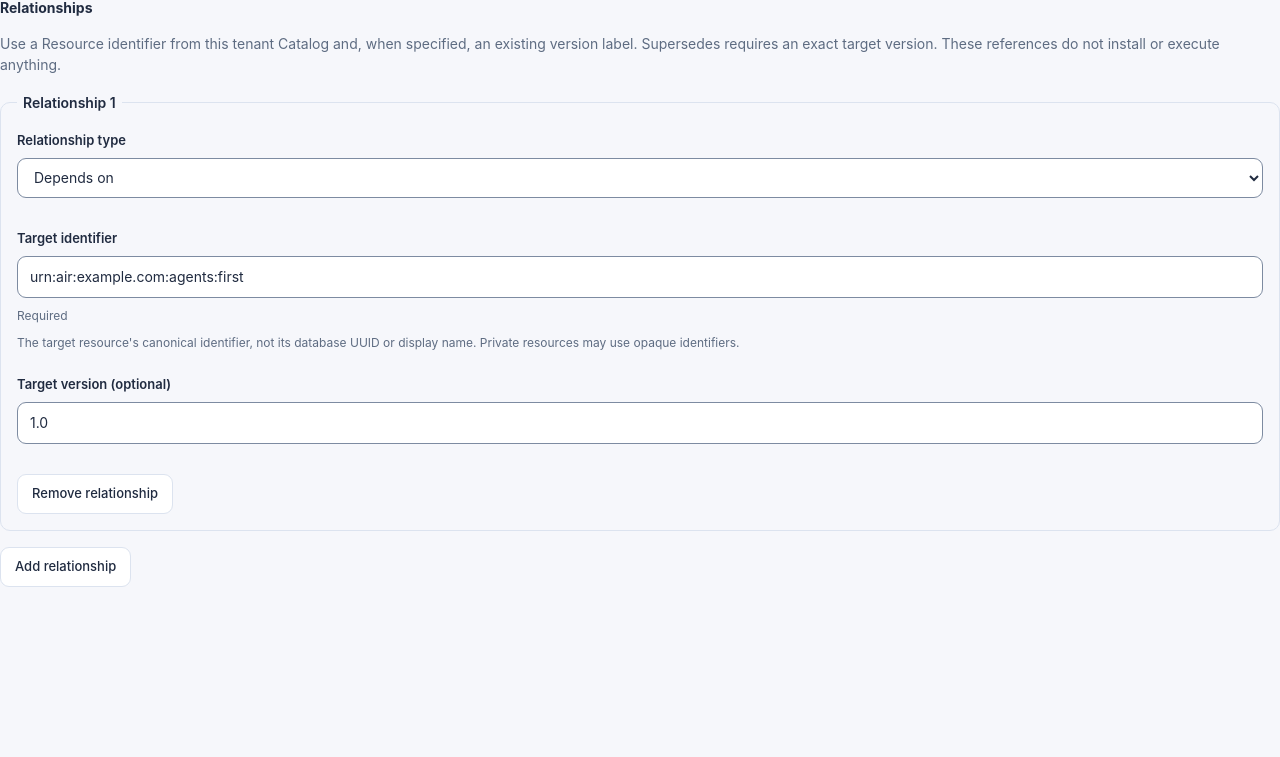
Scenario: edits only the selected row and preserves the other row when types and versions change
The width and height of the screenshot is (1280, 757).
Click the button "Add relationship" at (66, 567), box top-left (0, 547), bottom-right (131, 587)
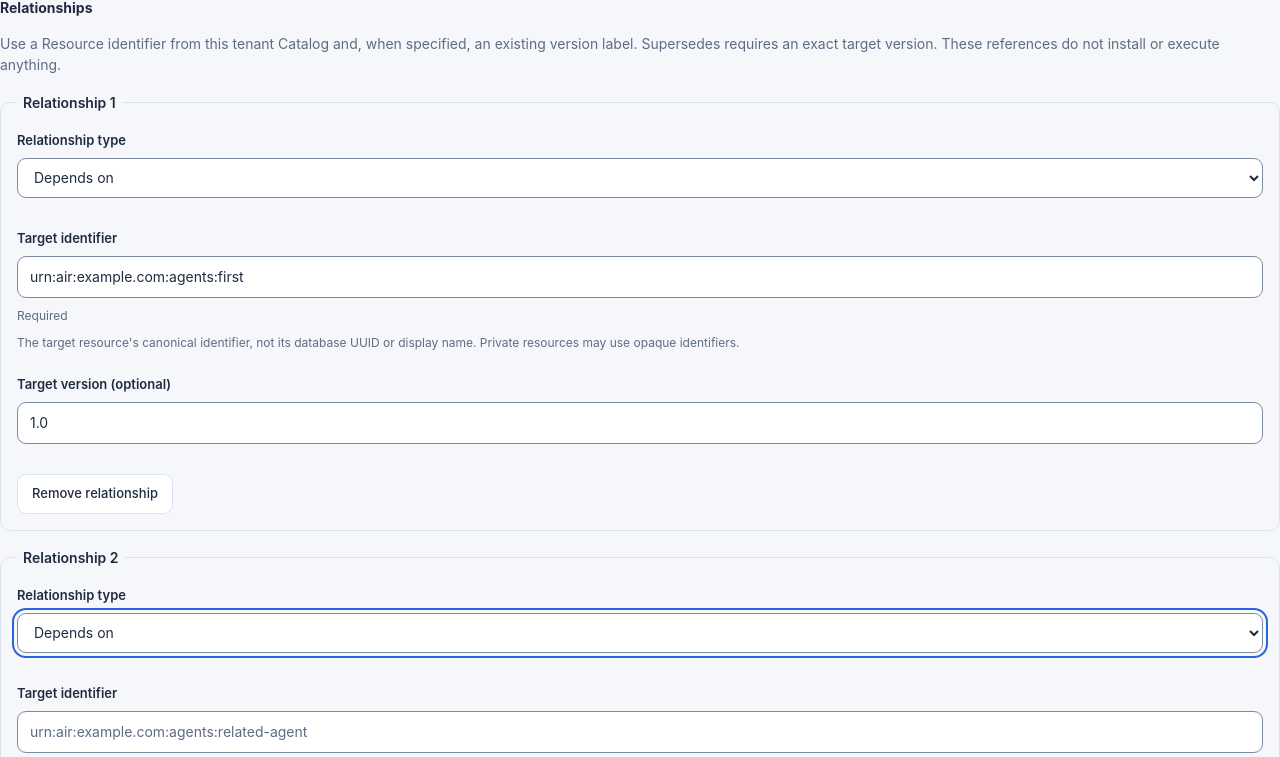
Select "Supersedes" in the 2nd dropdown labelled "Relationship type" at (640, 633), box top-left (17, 613), bottom-right (1263, 653)
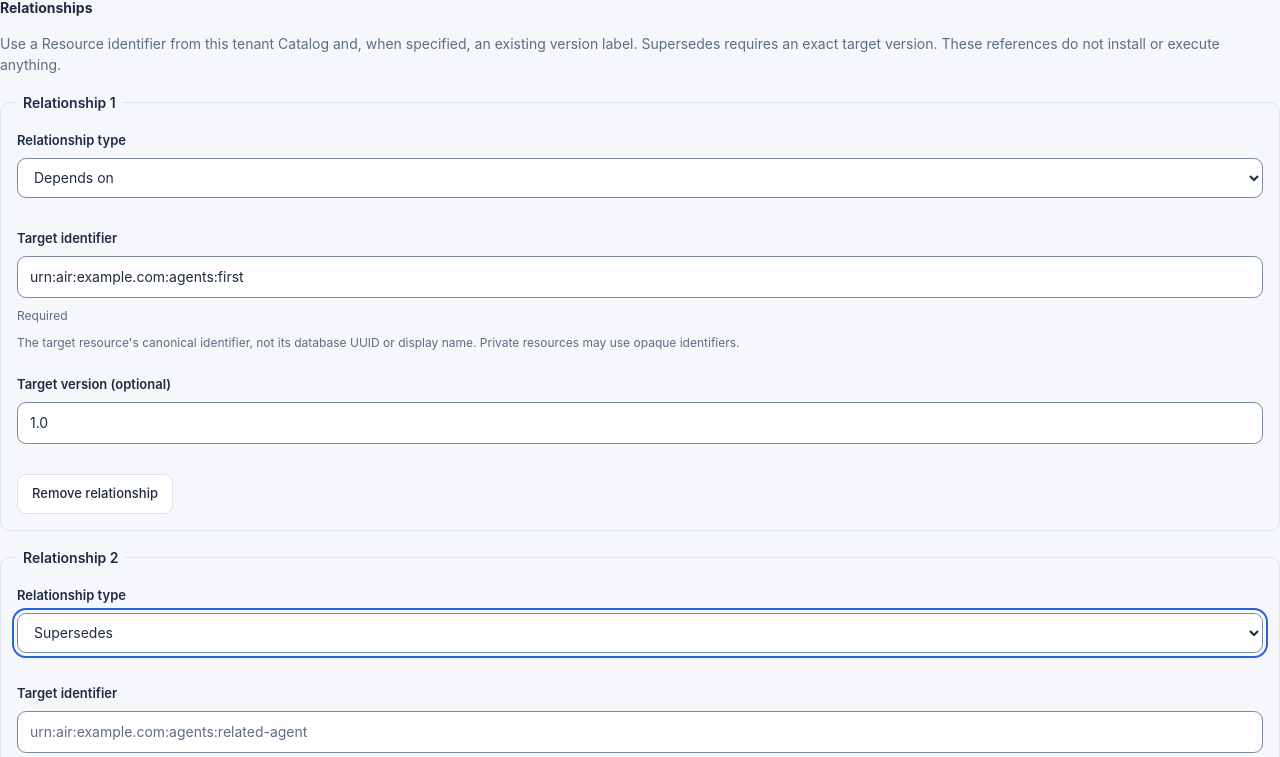
Type "urn:air:example.com:agents:second" into the 2nd field labelled "Target identifier" at (640, 732), box top-left (17, 711), bottom-right (1263, 753)
(page scrolled)
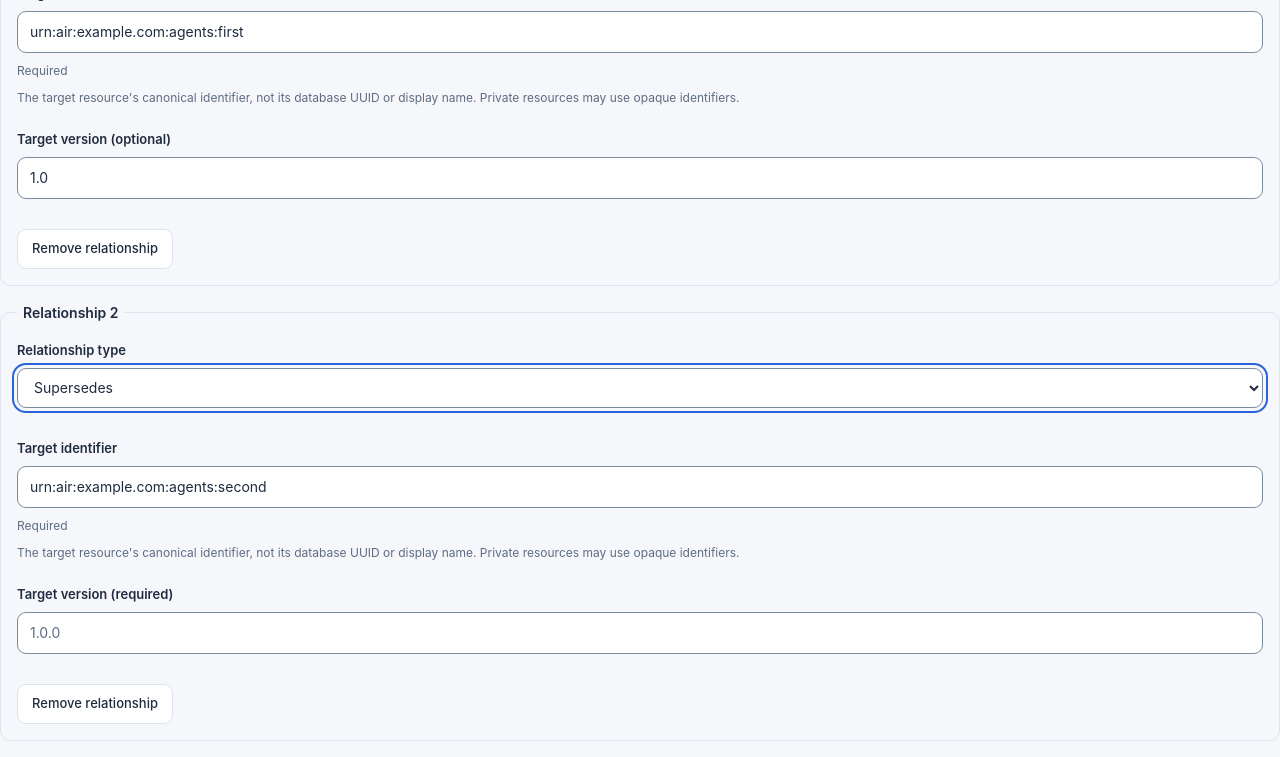
Type "2.0" into the field labelled "Target version (required)" at (640, 633), box top-left (17, 612), bottom-right (1263, 654)
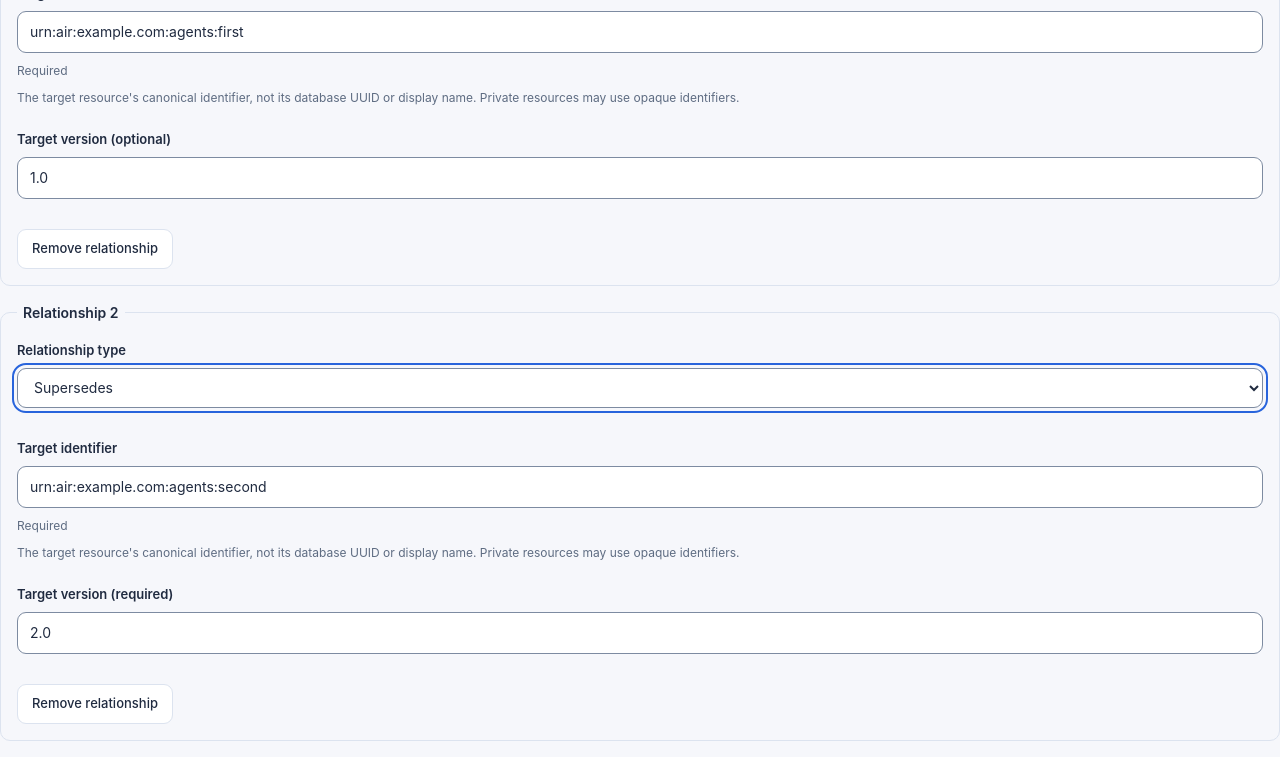
Expected: the 1st field labelled "Target identifier" holds "urn:air:example.com:agents:first", top-left (17, 11), bottom-right (1263, 53)
Expected: the field labelled "Target version (optional)" holds "1.0", top-left (17, 157), bottom-right (1263, 199)
Select "Recommended with" in the dropdown labelled "Relationship type" at (640, 388), box top-left (17, 368), bottom-right (1263, 408)
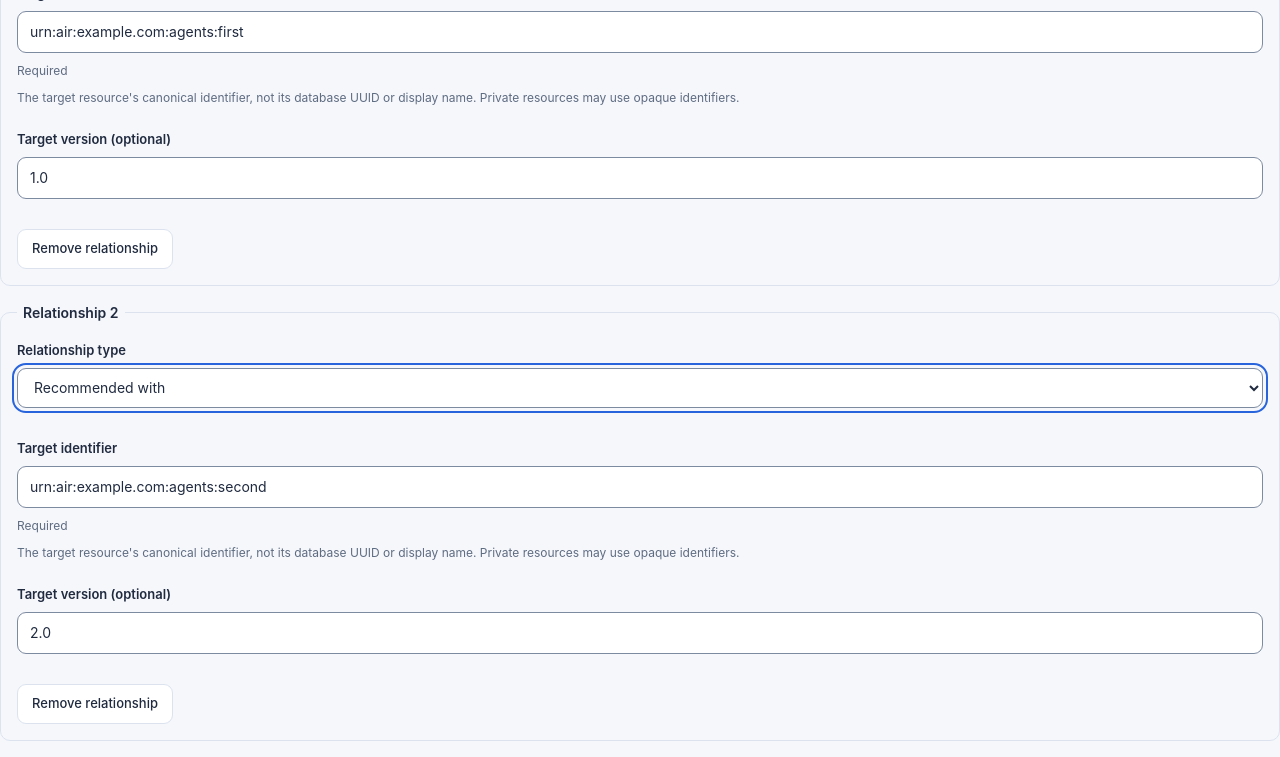
Expected: the text labelled "Target version (required)" is gone
